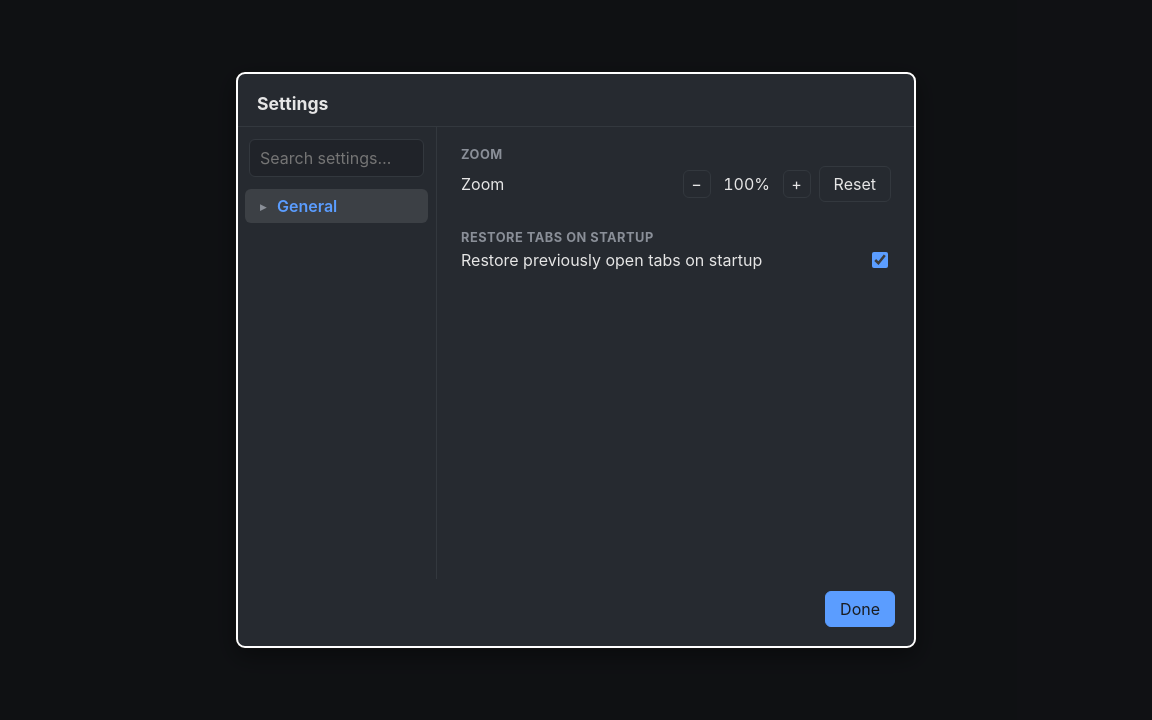
it: SettingsDialog search filters section nav rows (synthetic multi-section fixture) › keeps only the matching section row in the nav when one of a category's several sections doesn't match a search
The width and height of the screenshot is (1152, 720).
Type "a" into the field labelled "Search settings" at (336,158), box 249,139 -> 424,177
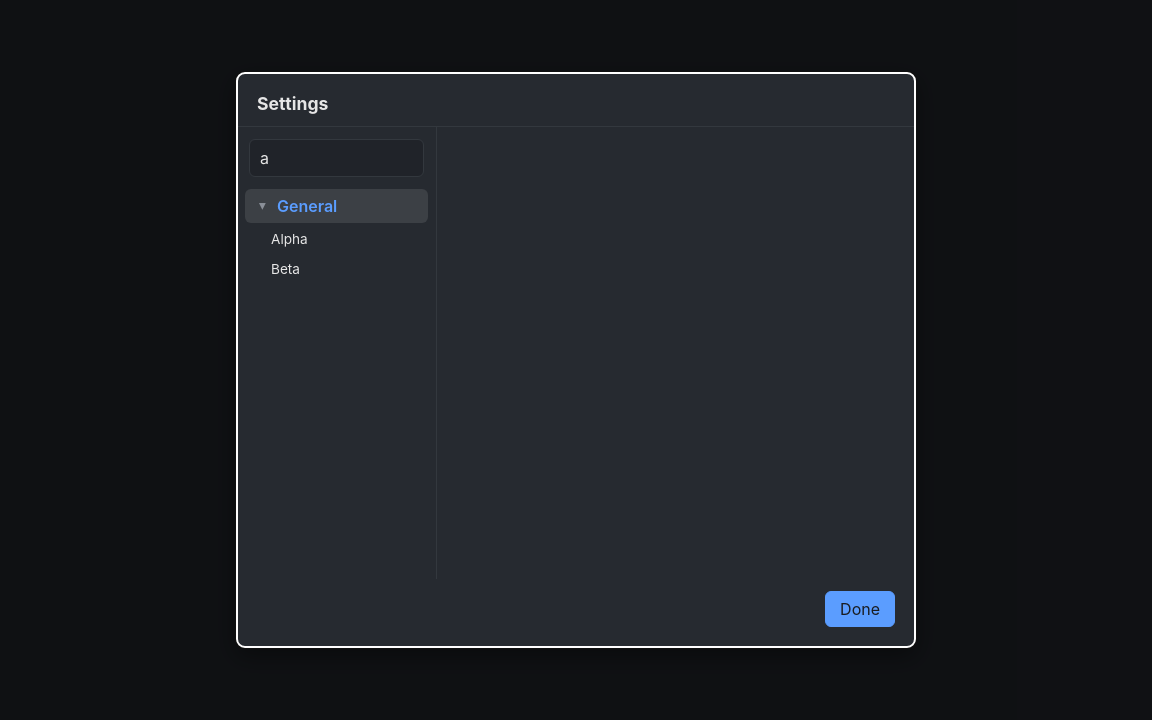
expect the list item "Alpha" is shown: met, box 271,231 -> 308,247
expect the list item "Beta" is shown: met, box 271,261 -> 300,277
Replace the text in the field named "Search settings" with "aaa" at (336,158), box 249,139 -> 424,177
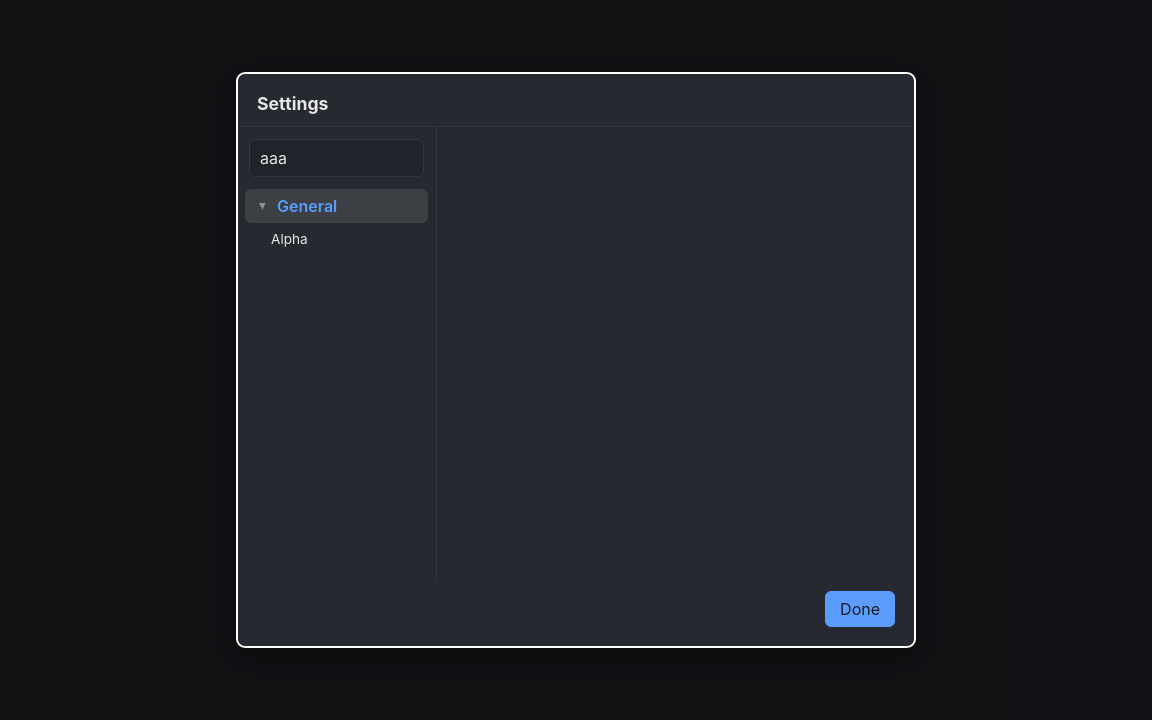
expect the list item "Alpha" is shown: met, box 271,231 -> 308,247
expect the list item "Beta" is gone: met
